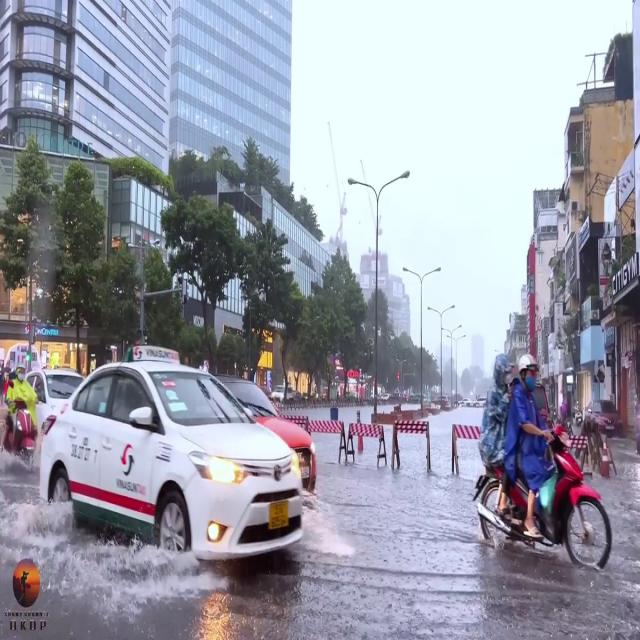bien_vang: (266, 494, 292, 538)
